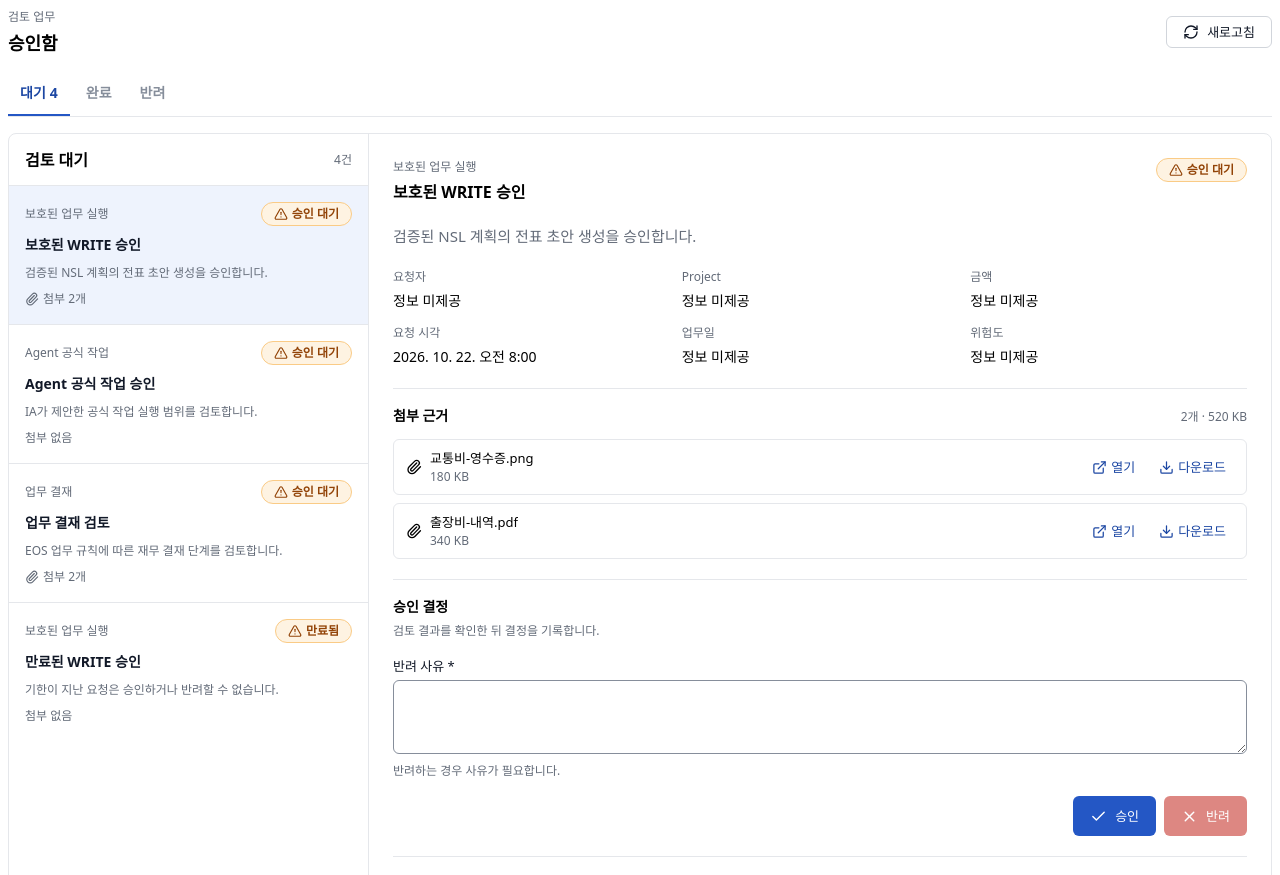
Approval Inbox React surface › selects a request and renders source-backed detail without inferred values
Check: the heading "보호된 WRITE 승인" is shown, box [393,180,525,204]
Check: the text "정보 미제공" below "요청자" is shown, box [393,291,461,310]
Click the button "업무 결재 승인 대기 업무 결재 검토 EOS 업무 규칙에 따른 재무 결재 단계를 검토합니다. 첨부 2개". click: (49, 492)
box: [9,464,368,602]
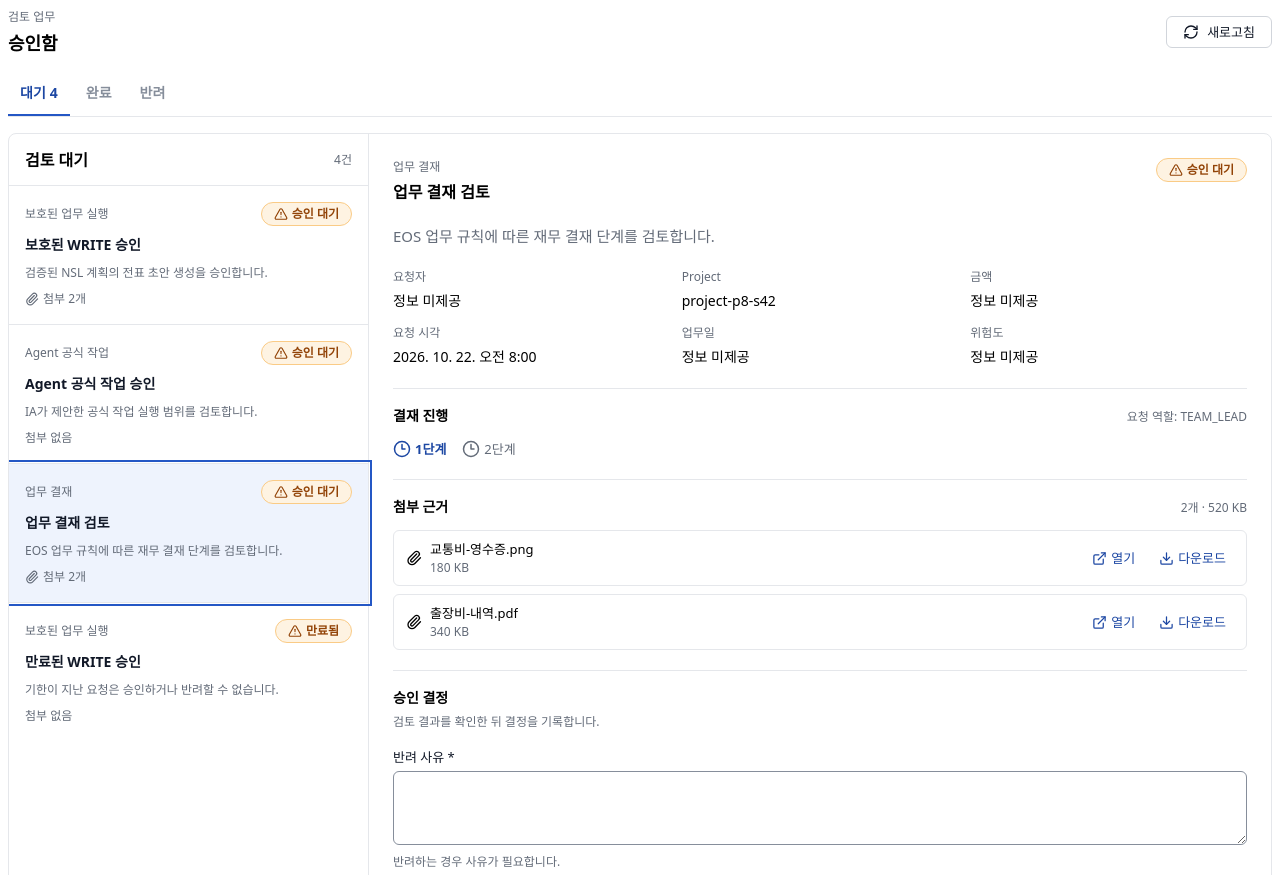
Check: the heading "업무 결재 검토" is shown, box [393,180,490,204]
Check: the text "project-p8-s42" is shown, box [682,291,776,310]
Check: the list named "업무 결재 진행 단계" is shown, box [393,440,516,458]
